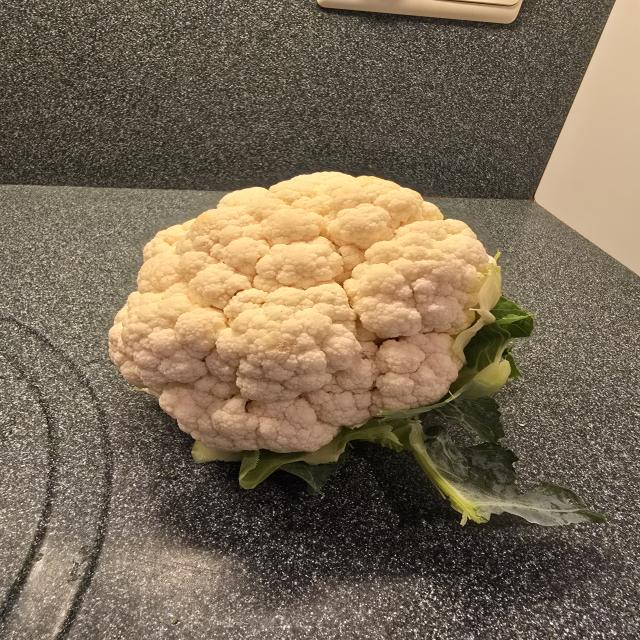Cauliflower: (87, 160, 551, 501)
